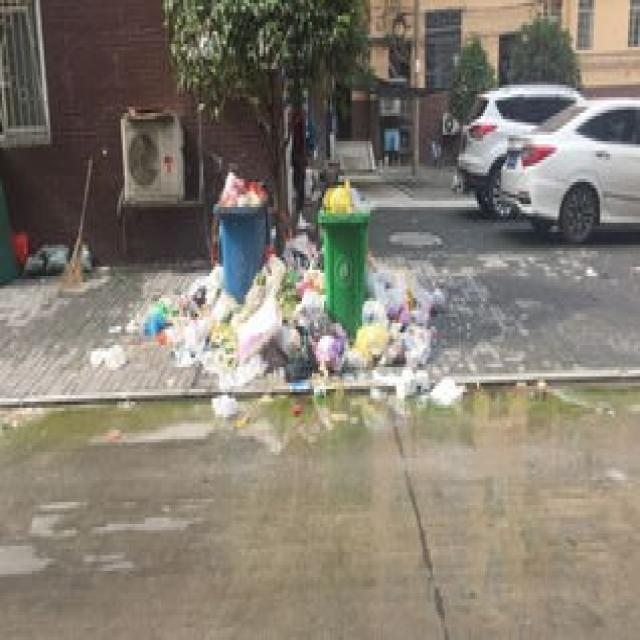garbage: (141, 229, 463, 414)
overflow: (316, 175, 368, 332), (213, 166, 266, 298)
